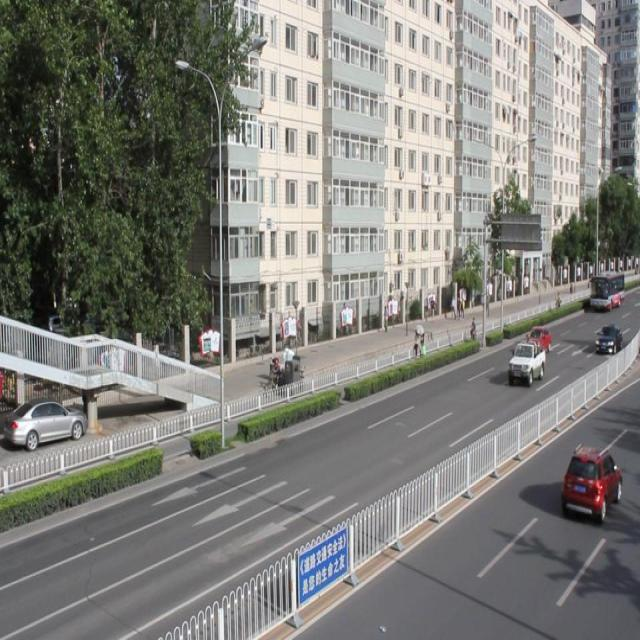car: (560, 444, 620, 520), (507, 341, 543, 383), (523, 325, 550, 353)
